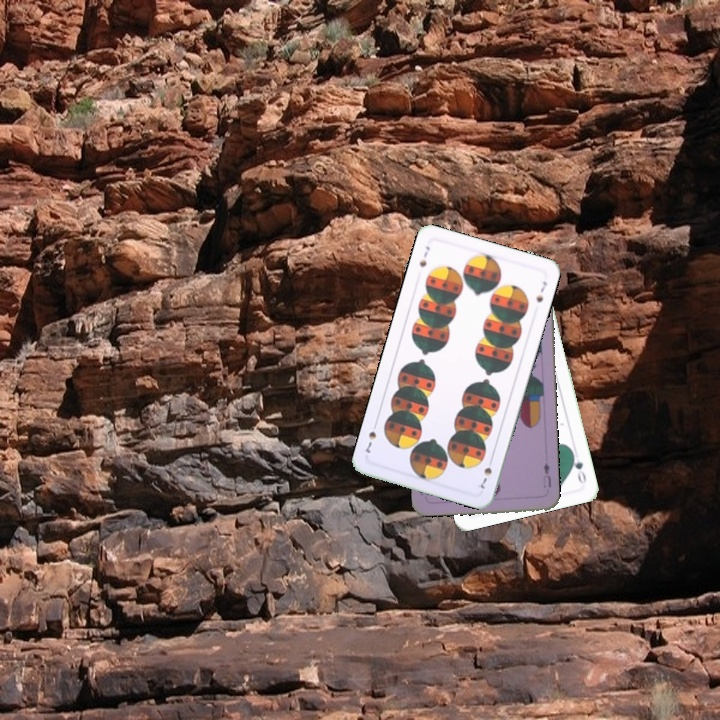EU: (539, 459, 553, 490)
GO: (568, 447, 589, 487)
S7: (476, 454, 495, 491), (415, 242, 432, 270)
